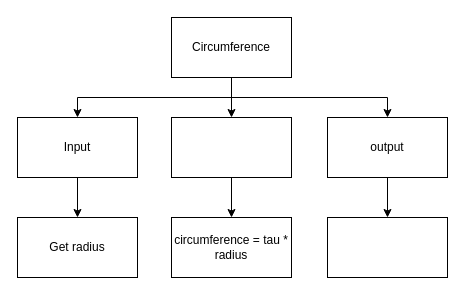
The diagram is 465 pixels wide and 295 high, and some of its shapes have lost their labels. The centre of each missing label's shape, as x and y in pixels:
Display circumference: the point at 387,247
Process: the point at 231,147
